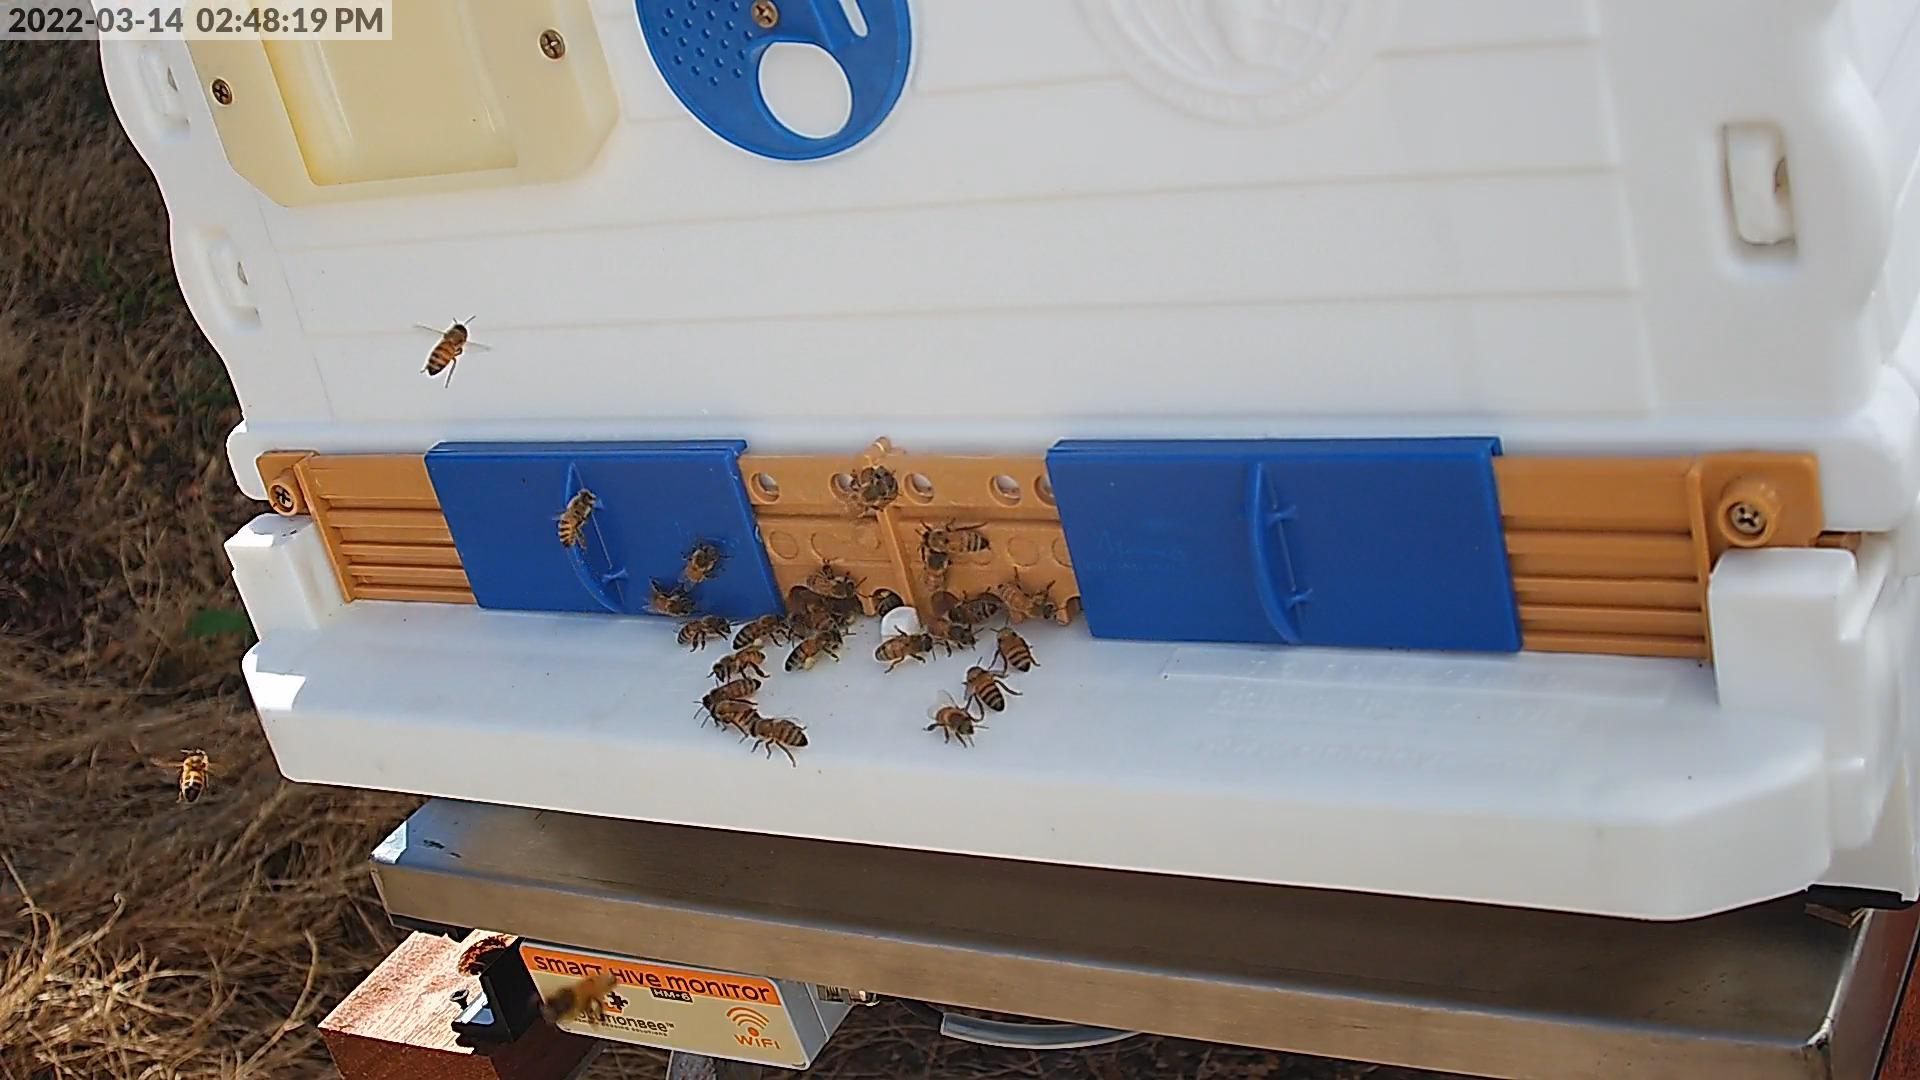bee: (543, 971, 613, 1025), (1000, 583, 1058, 618), (429, 323, 467, 376), (559, 491, 595, 546), (965, 665, 1004, 713), (712, 702, 760, 737), (920, 527, 989, 551), (848, 475, 890, 513), (703, 679, 761, 707), (754, 717, 808, 746), (877, 634, 934, 661), (713, 650, 765, 679), (678, 617, 729, 644), (1000, 629, 1031, 670), (806, 575, 856, 599), (928, 622, 978, 646), (920, 549, 947, 593), (808, 601, 841, 637), (185, 749, 207, 798), (949, 599, 993, 624), (939, 705, 976, 735), (650, 591, 691, 616), (686, 547, 715, 580), (790, 589, 810, 630)
pollenbee: (786, 633, 841, 671), (736, 613, 787, 647), (877, 589, 898, 613)
